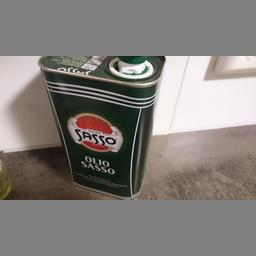oil: (38, 54, 167, 196)
